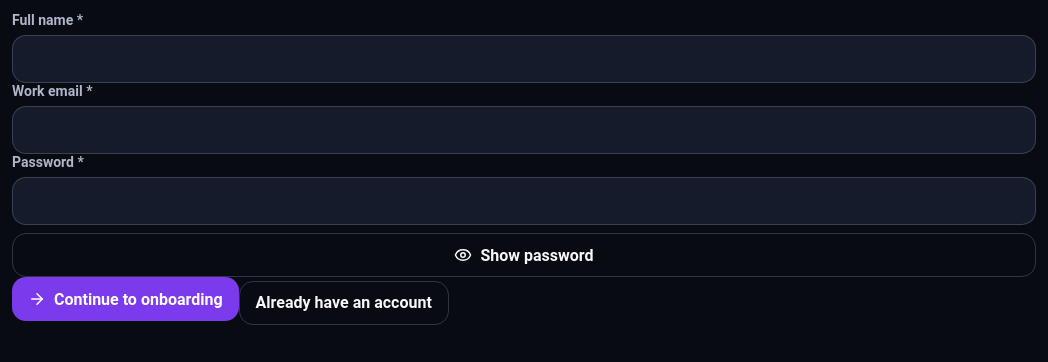
Test: auth forms › shows registration password validation
The width and height of the screenshot is (1048, 362).
Type "Demo User" into the field labelled "Full name *" at (524, 59), box [12,35,1036,83]
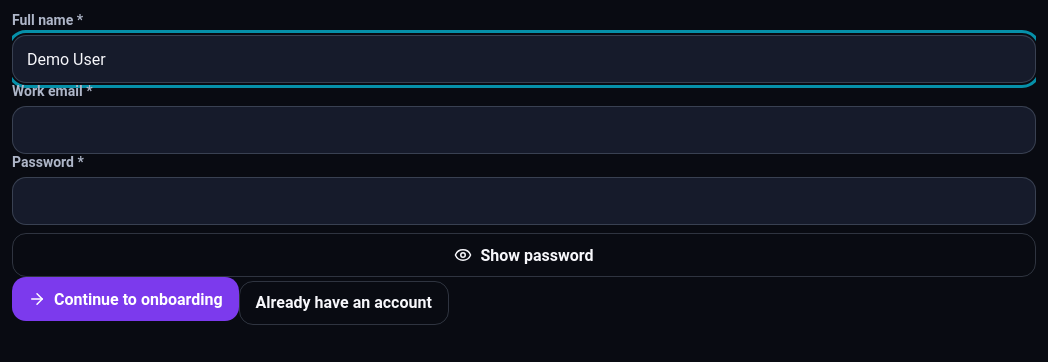
Type "demo@example.com" into the field labelled "Work email *" at (524, 130), box [12,106,1036,154]
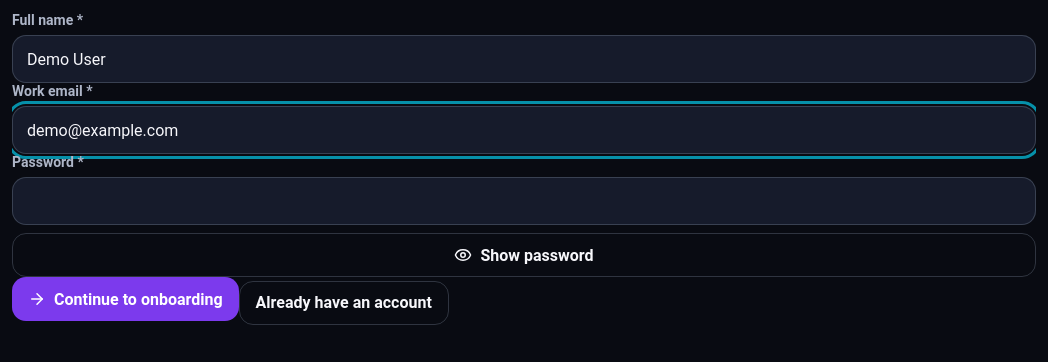
Type "short" into the password field labelled "Password *" at (524, 201), box [12,177,1036,225]
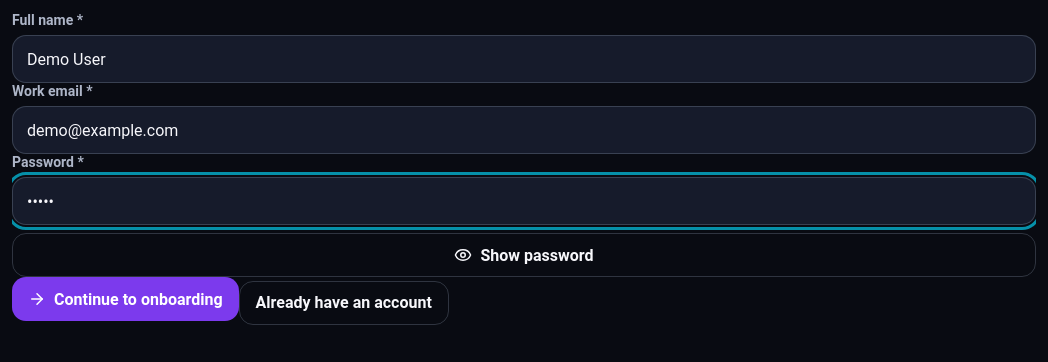
Click the button "Continue to onboarding" at (125, 299), box [12,277,239,321]
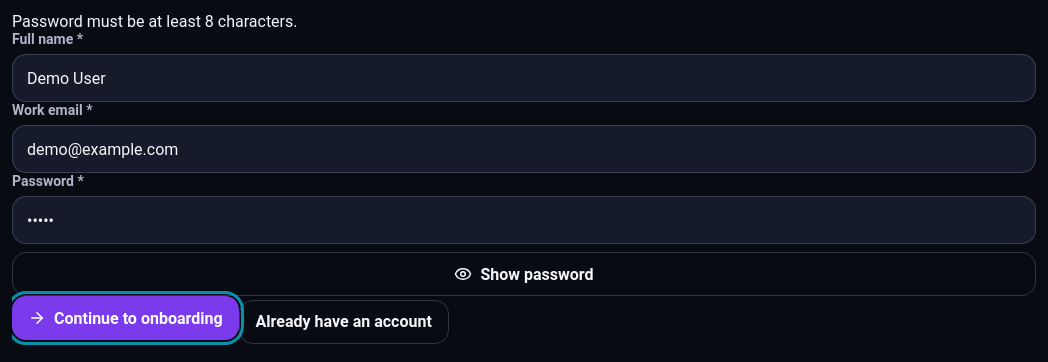
Expected: the text "Password must be at least 8 characters." is shown, [12,12,298,31]
